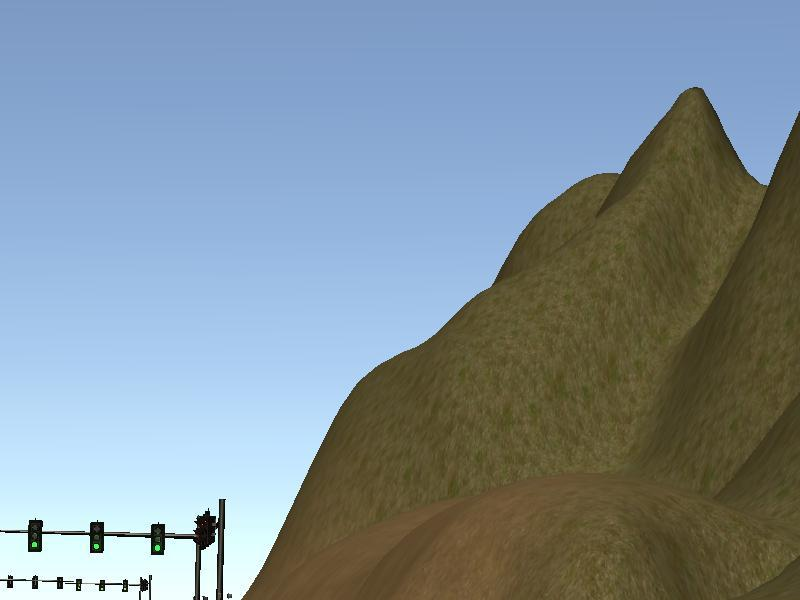Green: (28, 520, 42, 551), (151, 524, 165, 555), (90, 522, 104, 553)
